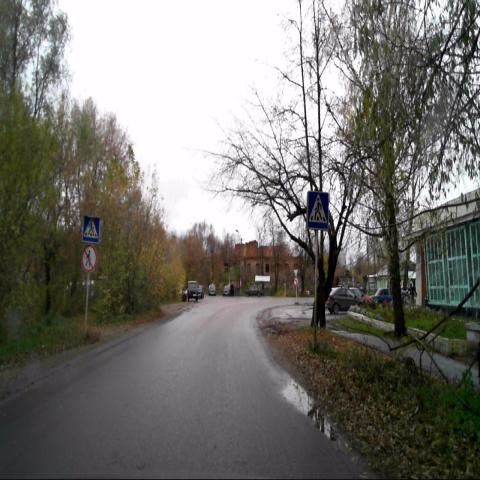3_10: (81, 244, 98, 271)
